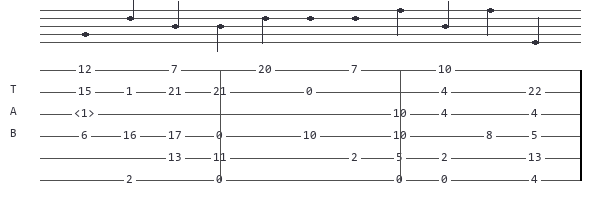0: (216, 130, 227, 142), (216, 174, 227, 186), (306, 86, 317, 98), (396, 174, 407, 186), (441, 174, 452, 186)
1: (126, 86, 137, 98)
10: (303, 130, 321, 142), (393, 108, 411, 120), (393, 130, 411, 142), (438, 64, 456, 76)
11: (213, 152, 231, 164)
12: (78, 64, 96, 76)
13: (168, 152, 186, 164), (528, 152, 546, 164)
15: (78, 86, 96, 98)
16: (123, 130, 141, 142)
17: (168, 130, 186, 142)
2: (126, 174, 137, 186), (351, 152, 362, 164), (441, 152, 452, 164)
20: (258, 64, 276, 76)
21: (168, 86, 186, 98), (213, 86, 231, 98)
22: (528, 86, 546, 98)
4: (441, 86, 452, 98), (441, 108, 452, 120), (531, 174, 542, 186), (531, 108, 542, 120)
5: (396, 152, 407, 164), (531, 130, 542, 142)
6: (81, 130, 92, 142)
7: (171, 64, 182, 76), (351, 64, 362, 76)
8: (486, 130, 497, 142)
harmonic: (74, 108, 99, 120)
